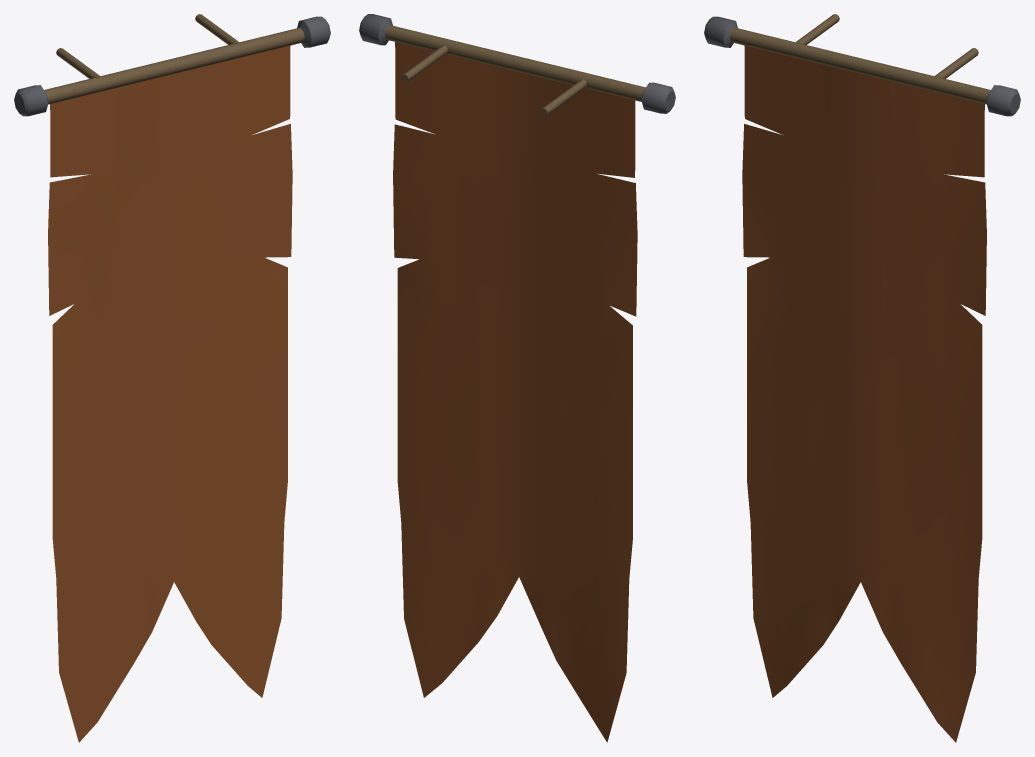
Rendered from Flag_Wall2.glb.
The picture shows the model from 3 angles, left to right: view 1: azimuth 30°, elevation 25°; view 2: azimuth 150°, elevation 25°; view 3: azimuth 330°, elevation 25°; orthographic projection.
Parts seen in each view (by area): view 1: Flag_Wall2; view 2: Flag_Wall2; view 3: Flag_Wall2.
Part boxes in pixels (<box>): Flag_Wall2: <box>14,14,330,742</box>; Flag_Wall2: <box>359,14,675,742</box>; Flag_Wall2: <box>704,14,1020,742</box>.
Size of the model in its own units: 1.13 by 2.35 by 0.3224.
